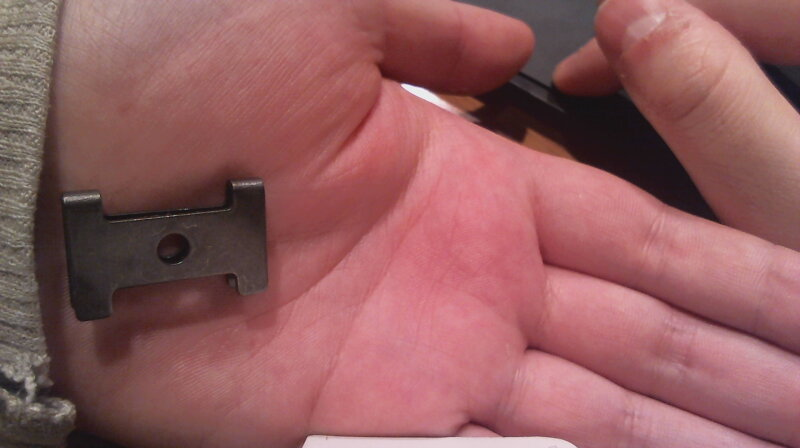O002: (57, 172, 276, 324)
